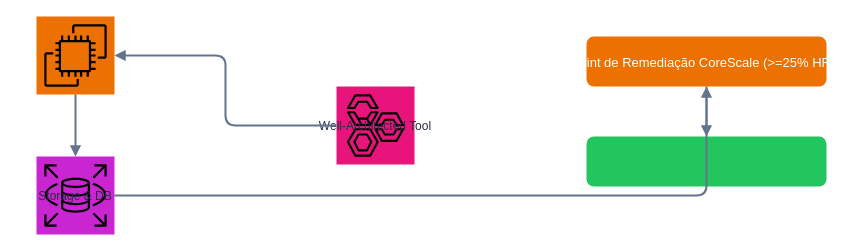
The diagram is 862 pixels wide and 251 high, and some of its shapes have lost their labels. Each missing label, with the box of its shape:
Até US$ 5.000 Créditos AWS: (586, 136, 826, 186)
Compute (EC2 / EKS): (36, 16, 114, 94)
